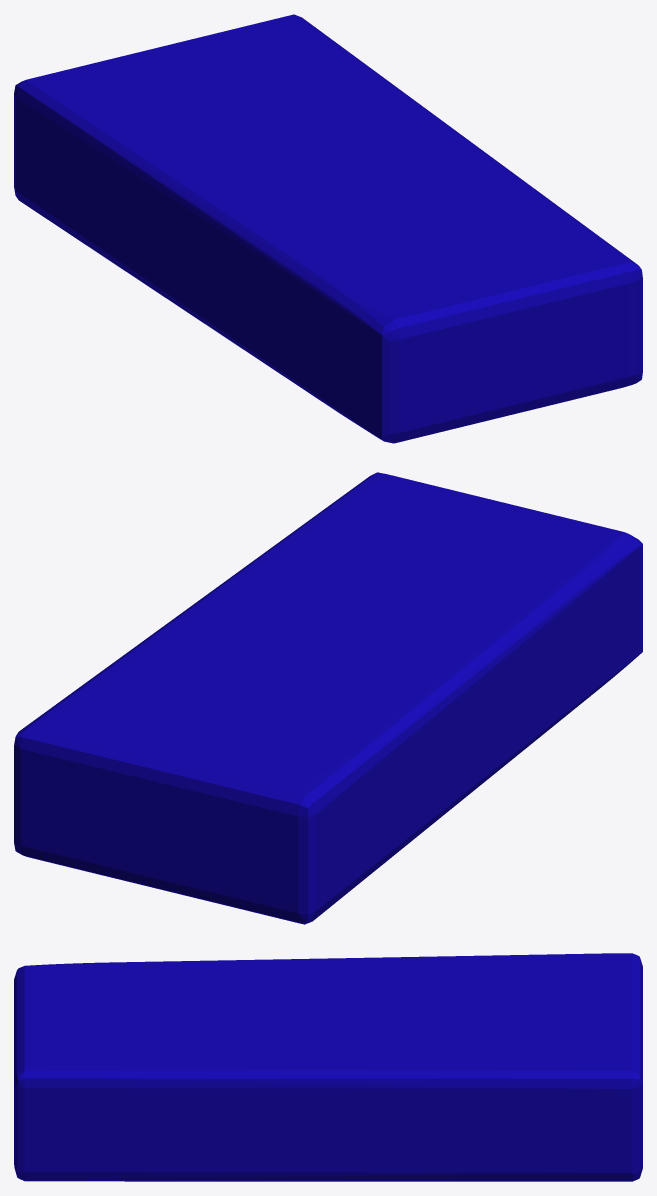
The model's file is right_knee_link_part_5.obj.
3 renders of one model, top to bottom at view 1: azimuth 30°, elevation 25°; view 2: azimuth 150°, elevation 25°; view 3: azimuth 270°, elevation 25°, orthographic. The views are drawn at different scales.
Bounding box in the file's own units: 0.0561 × 0.023 × 0.1176.
